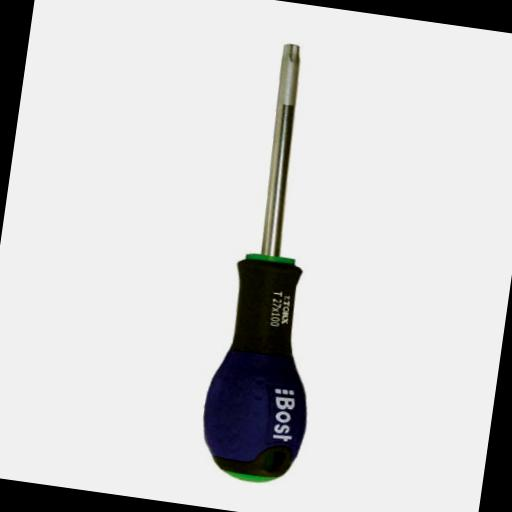screwdriver: (192, 38, 360, 489)
